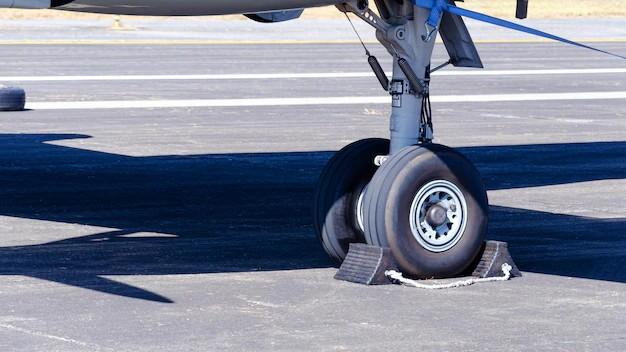chock: (332, 240, 403, 287), (458, 240, 524, 282)
wheel: (368, 145, 487, 278), (310, 136, 390, 265), (0, 85, 25, 111)
